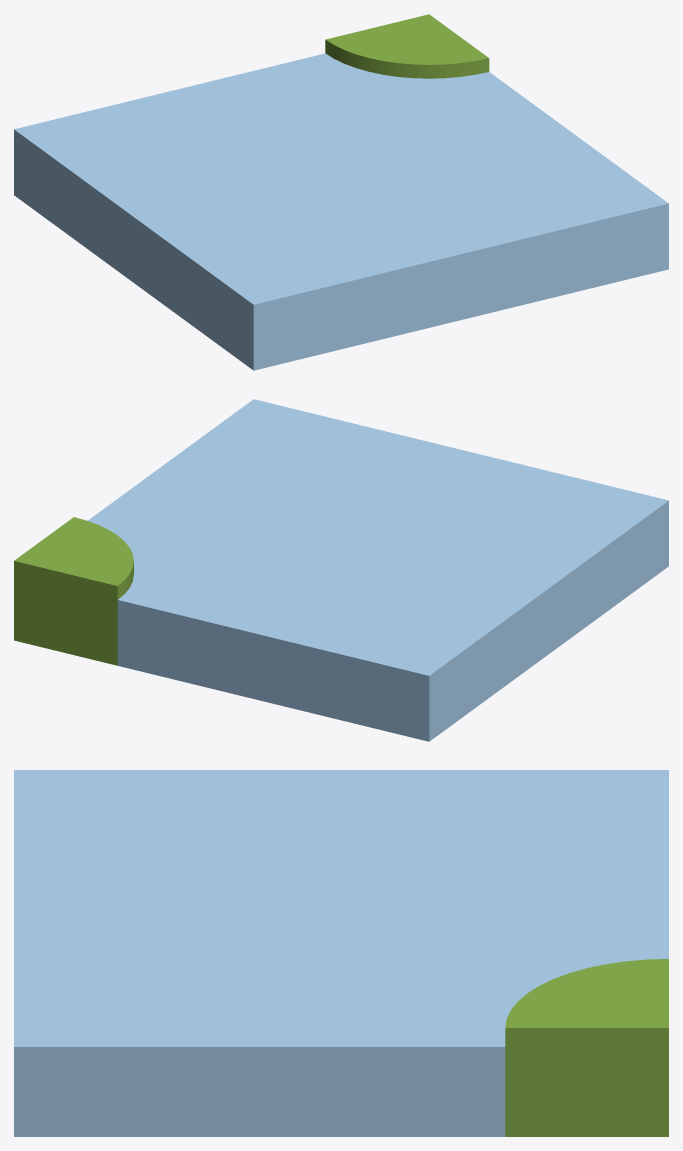
Rendered from tile098.fbx.
The picture shows the model from 3 angles, top to bottom: view 1: azimuth 30°, elevation 25°; view 2: azimuth 150°, elevation 25°; view 3: azimuth 270°, elevation 25°; orthographic projection. The views are drawn at different scales.
Parts seen in each view (by area): view 1: tile098; view 2: tile098; view 3: tile098.
Boxes of the visible parts, x1,y1,x2,y2 form: tile098: (14, 14, 668, 370); tile098: (14, 399, 668, 741); tile098: (14, 770, 668, 1136).
Size of the model in its own units: 10 by 1.83 by 10.
